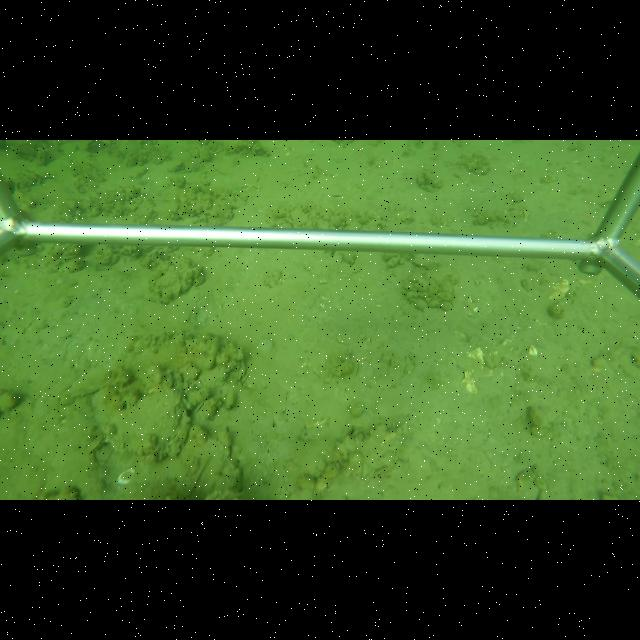Oyster-Closed: (93, 381, 188, 460), (151, 263, 184, 305)
Oyster-Open: (407, 257, 430, 272)
